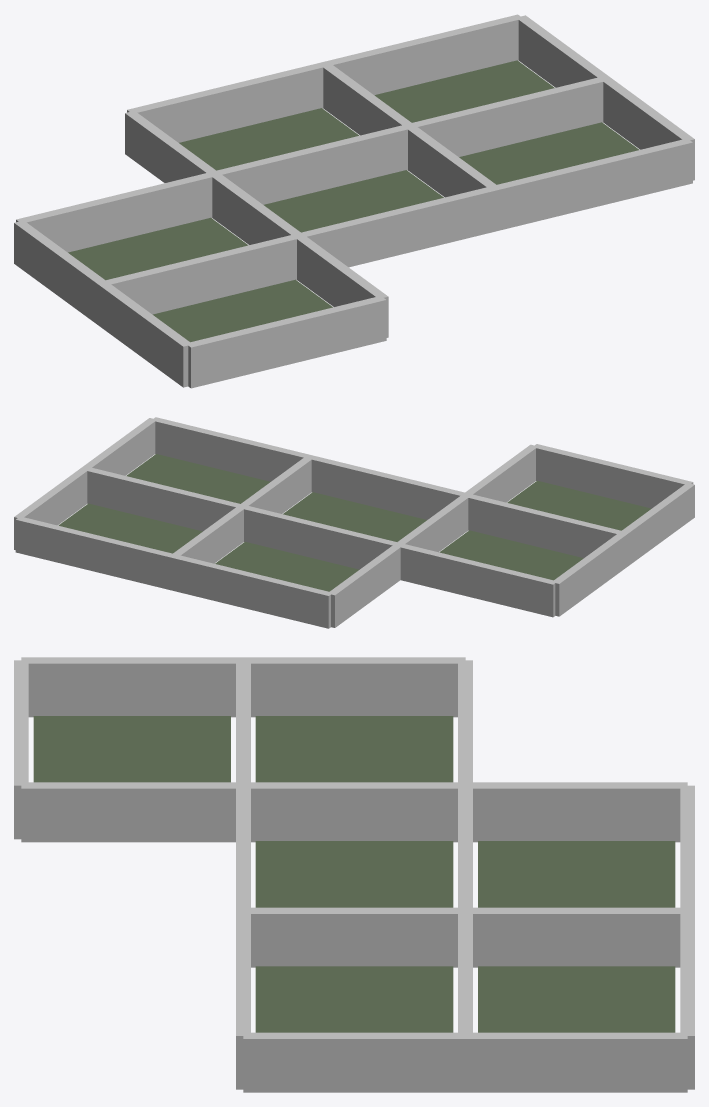
The model's file is r02-underground-caves__layout_main.obj.
3 renders of one model, top to bottom at view 1: azimuth 30°, elevation 25°; view 2: azimuth 150°, elevation 25°; view 3: azimuth 270°, elevation 25°, orthographic. The views are drawn at different scales.
Parts seen in each view (by area): view 1: walls, floors; view 2: walls, floors; view 3: walls, floors.
Boxes of the visible parts, bbox=[...] form: walls: bbox=[14, 14, 694, 388]; floors: bbox=[68, 60, 639, 342]; walls: bbox=[14, 417, 694, 628]; floors: bbox=[58, 454, 651, 591]; walls: bbox=[14, 657, 694, 1092]; floors: bbox=[33, 716, 675, 1032].
Size of the model in its own units: 36.6 by 2.45 by 27.6.
